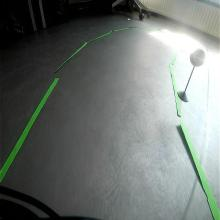left: (188, 47, 206, 67)
